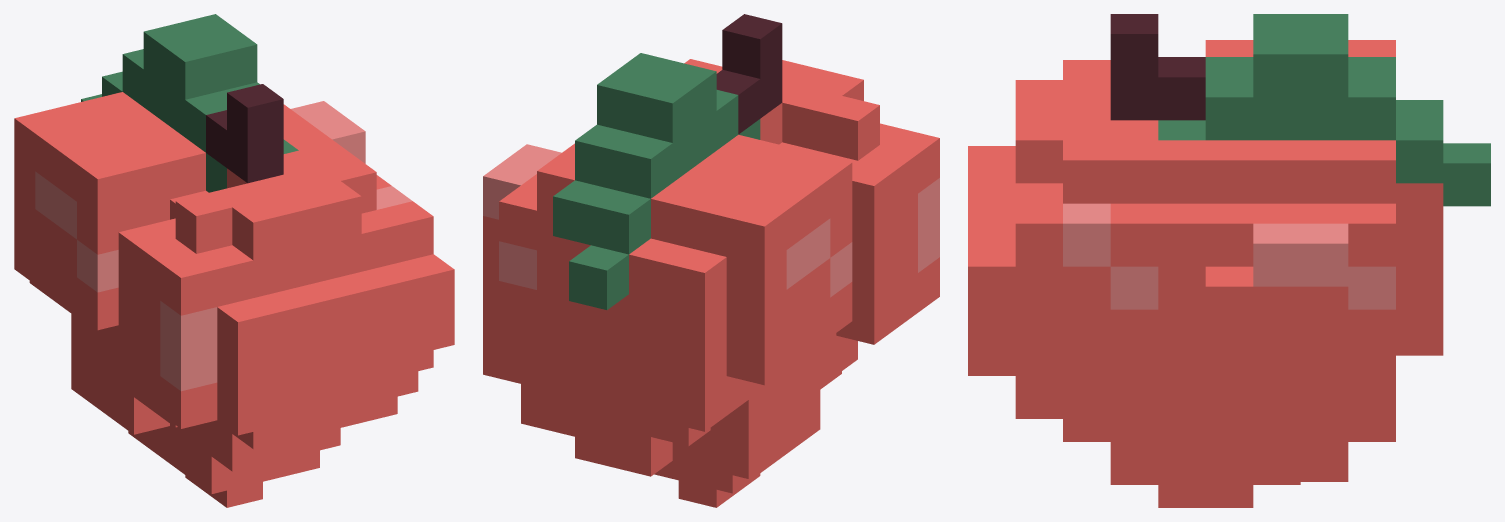
File: peach.vox.obj
3 views of the same model, side by side, from view 1: azimuth 30°, elevation 25°; view 2: azimuth 150°, elevation 25°; view 3: azimuth 270°, elevation 25° (orthographic). The views are drawn at different scales.
Size of the model in its own units: 0.8 by 1.1 by 1.1.
Materials: 1 (1 with a texture image).
